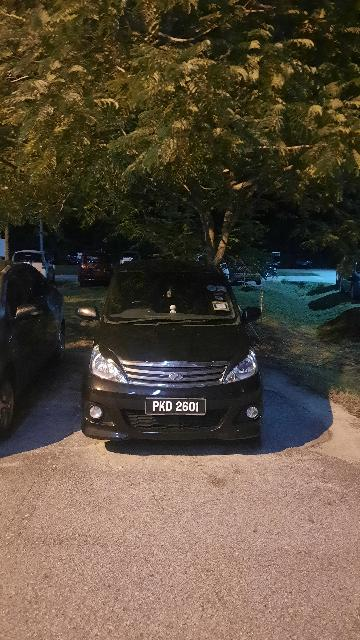License_Plate: (143, 396, 209, 418)
car: (74, 257, 271, 452)
